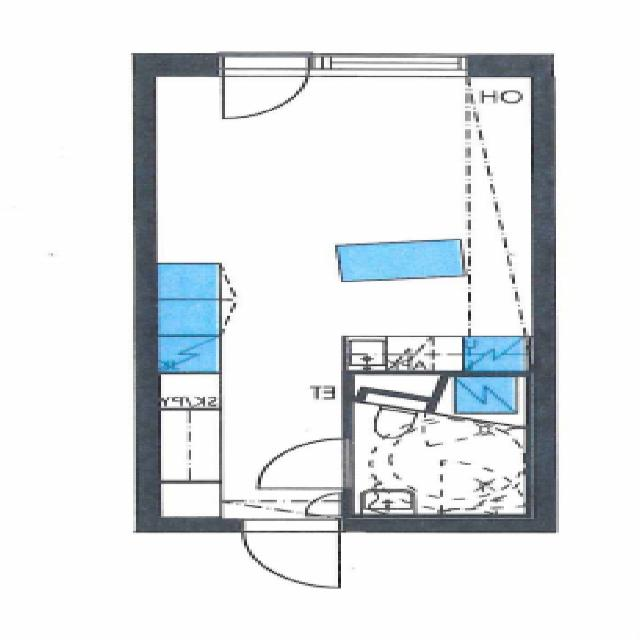door: (242, 519, 339, 589), (223, 53, 307, 126), (259, 441, 353, 490)
